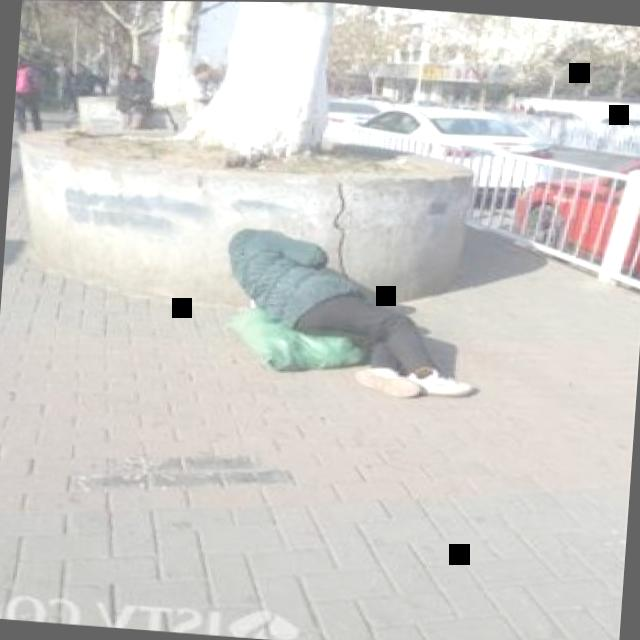Fall-Detected: (197, 211, 513, 405)
